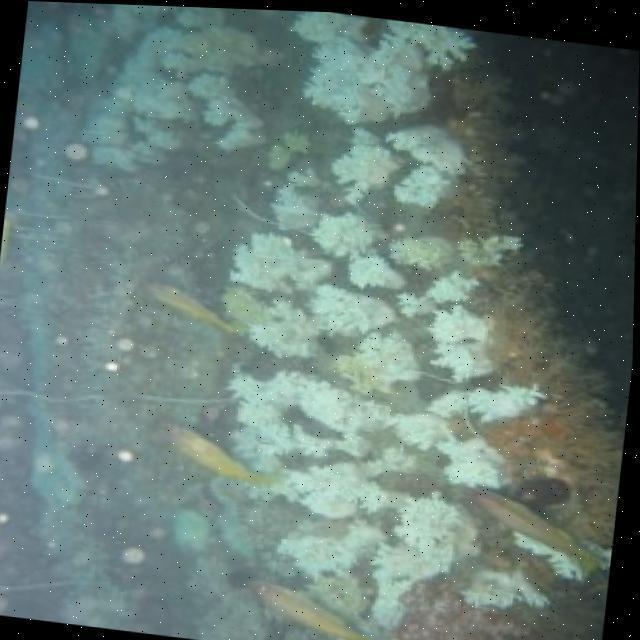Bleached Coral: (188, 6, 553, 640), (51, 2, 265, 212)
